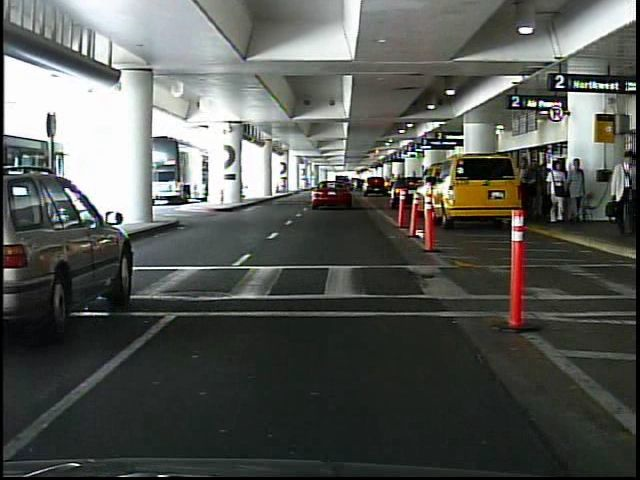person: (603, 149, 637, 239), (566, 157, 590, 224), (549, 158, 569, 226)
